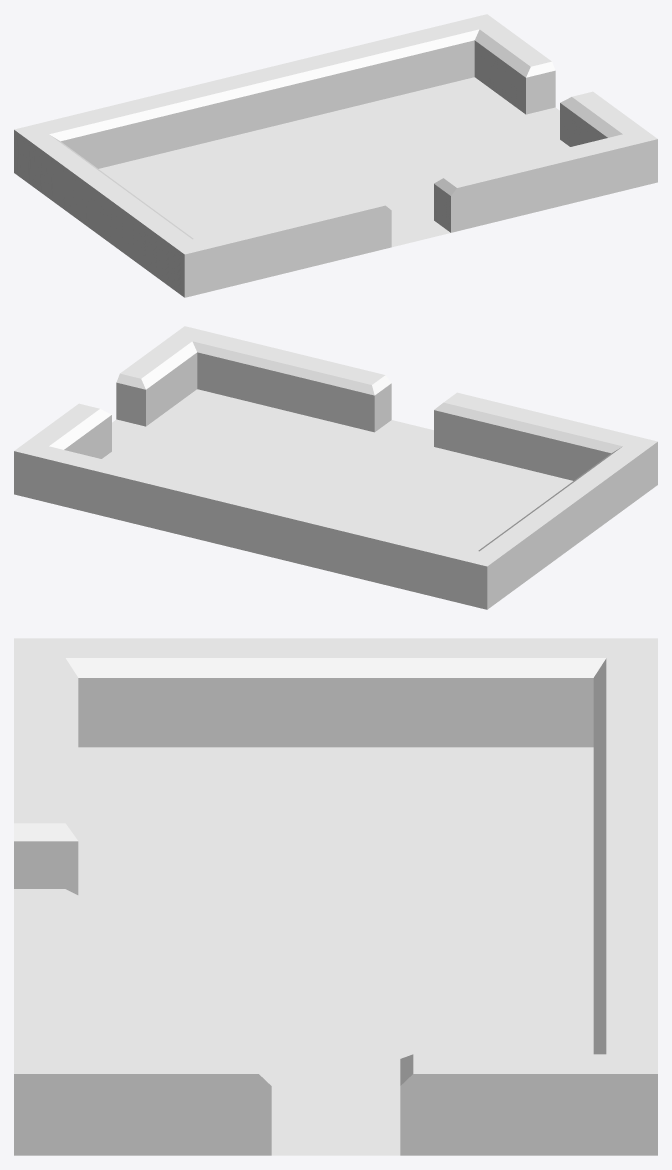
File: Room20.obj
3 renders of one model, top to bottom at view 1: azimuth 30°, elevation 25°; view 2: azimuth 150°, elevation 25°; view 3: azimuth 270°, elevation 25°, orthographic. The views are drawn at different scales.
Parts seen in each view (by area): view 1: room2x5; view 2: room2x5; view 3: room2x5.
Boxes of the visible parts, <box> form: room2x5: <box>14,14,657,297</box>; room2x5: <box>14,326,657,609</box>; room2x5: <box>14,638,657,1155</box>.
Size of what is drawn, in the model's own units: 80 by 7 by 50.
